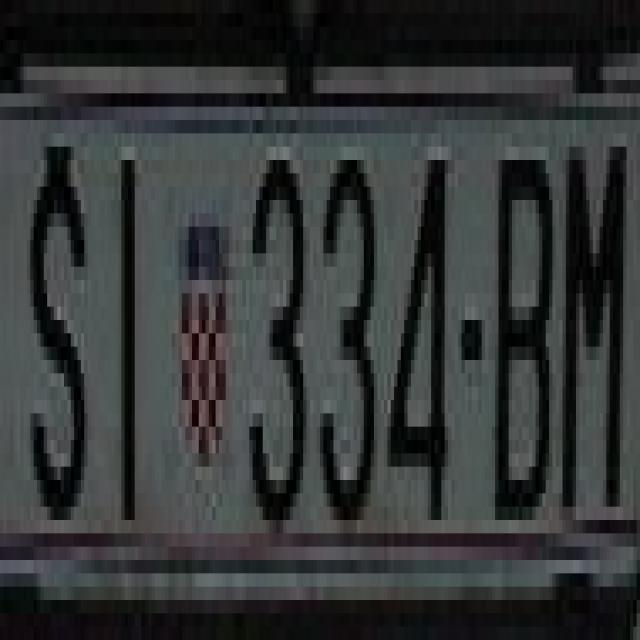3: (243, 160, 313, 533), (317, 160, 377, 533)
4: (394, 133, 455, 520)
B: (488, 133, 549, 507)
M: (559, 134, 627, 494)
S: (24, 133, 94, 507)
